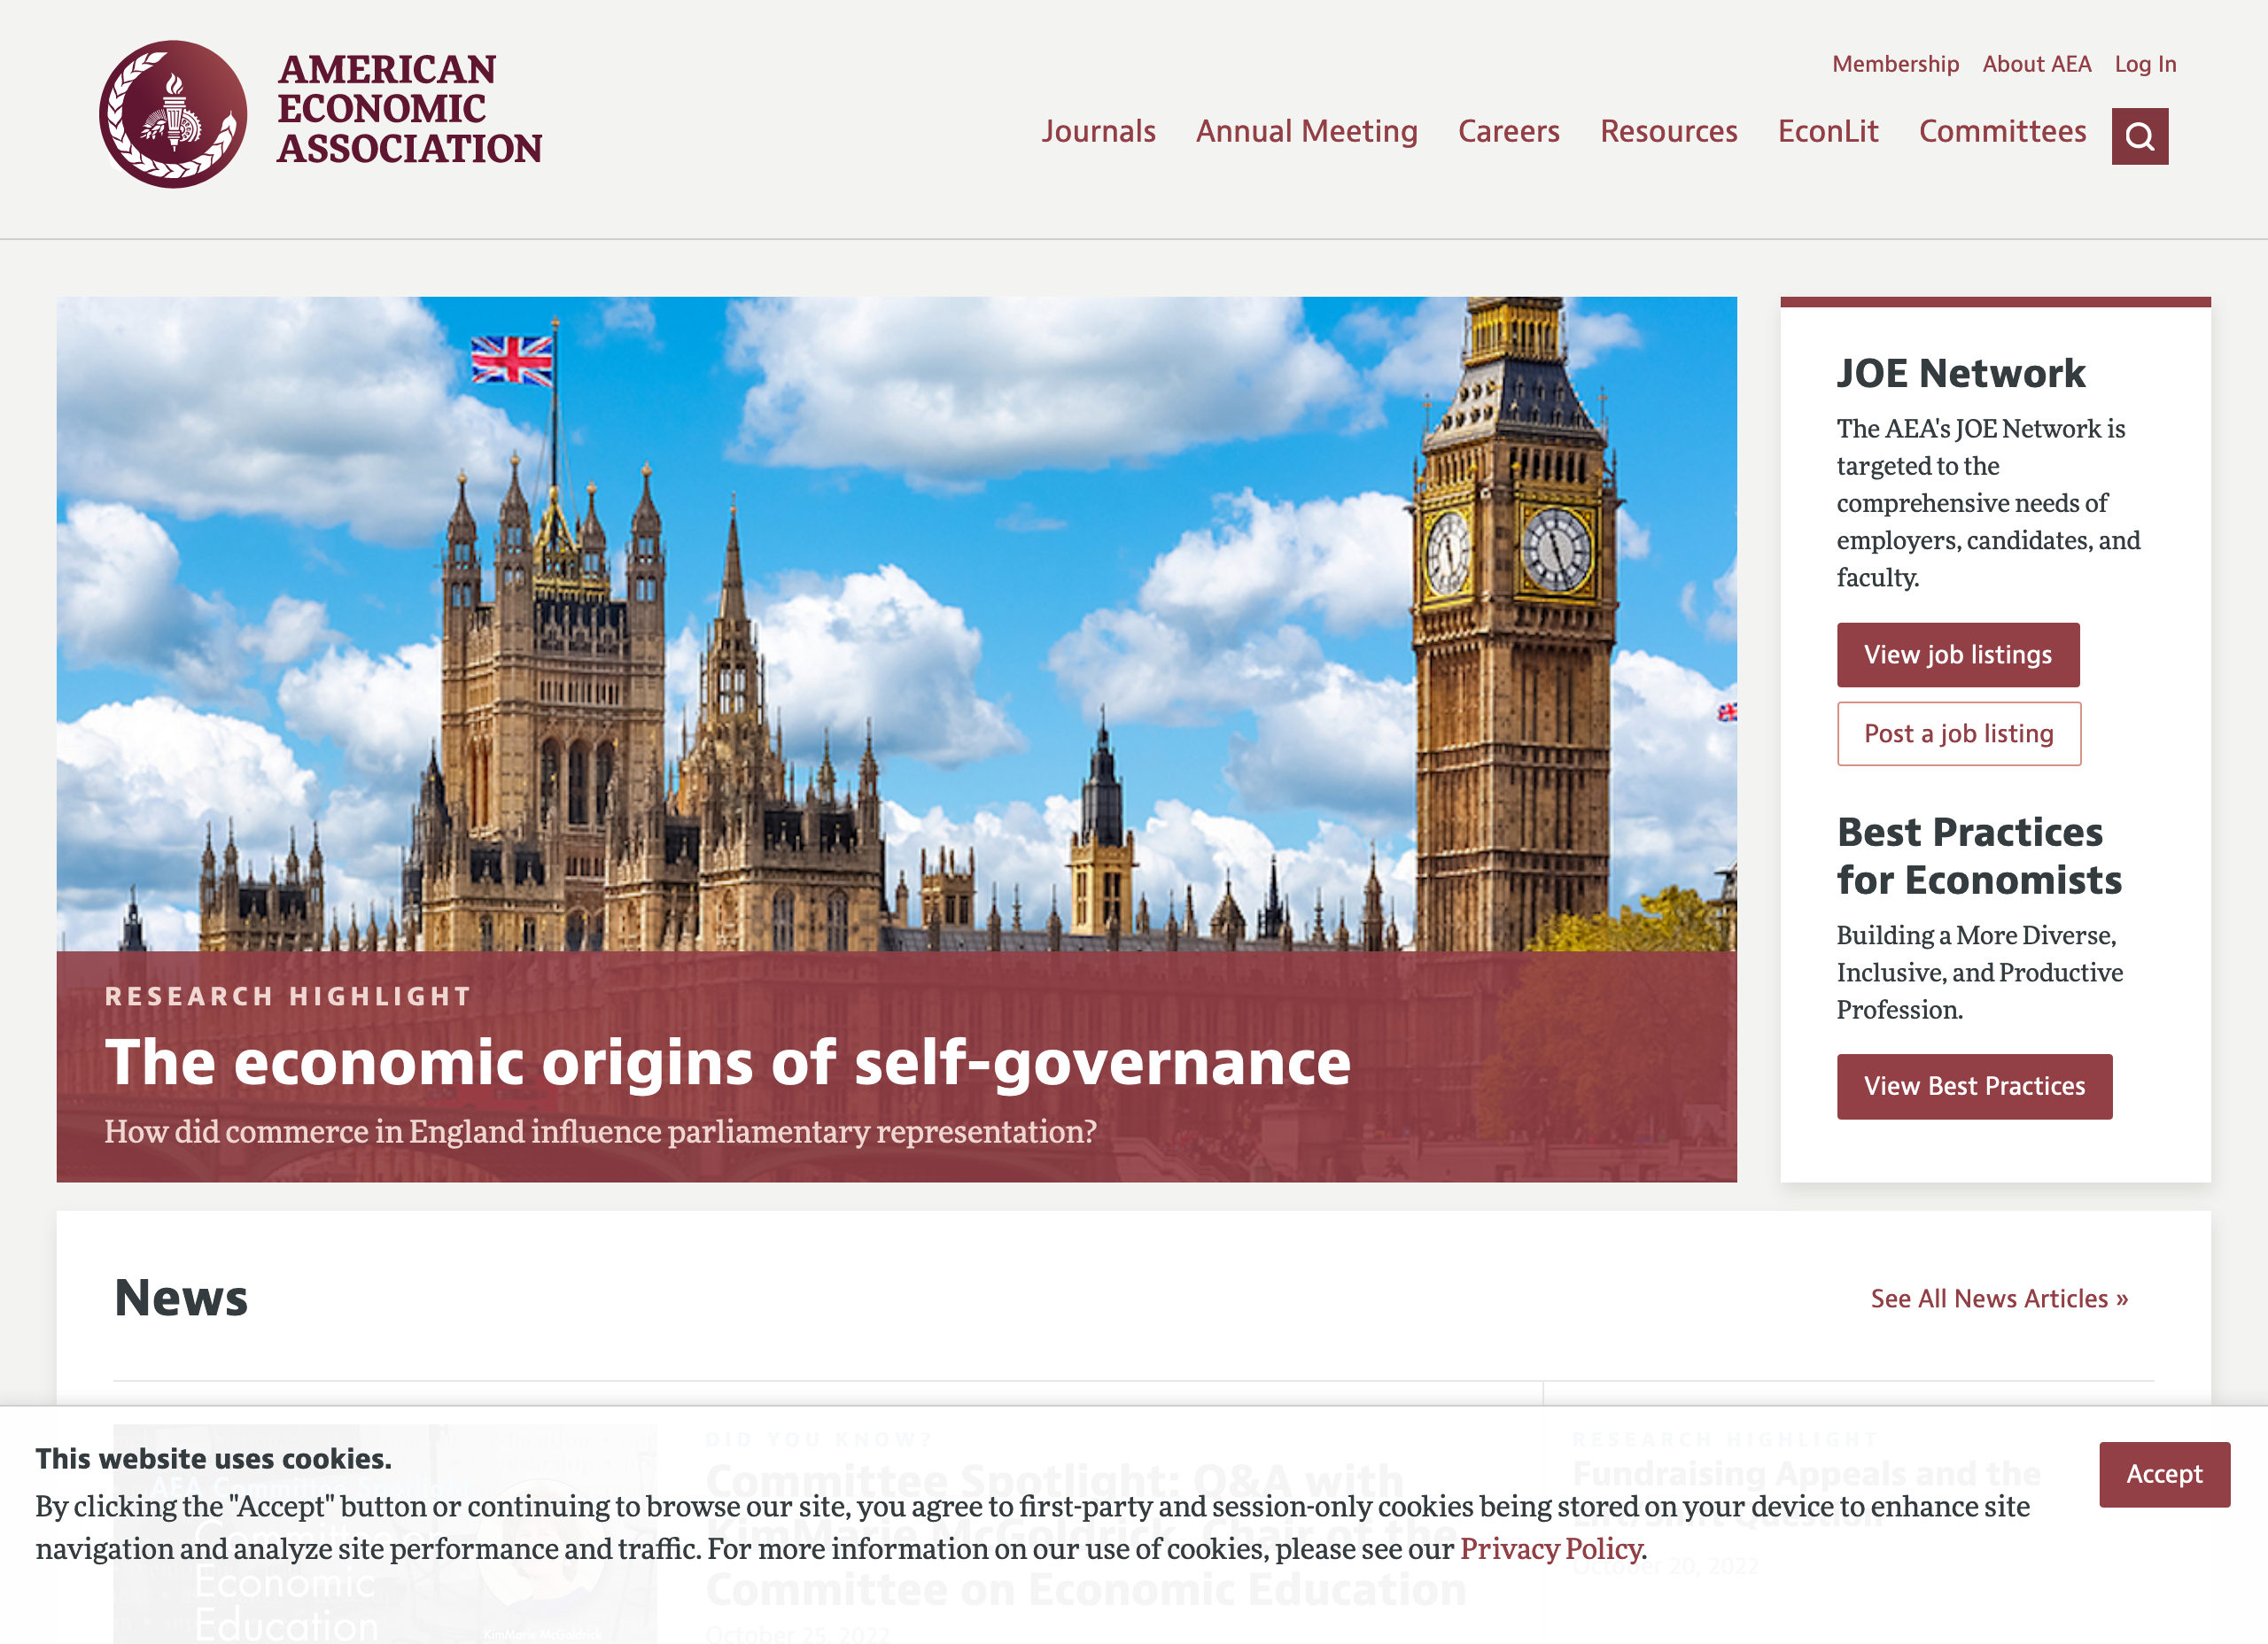Login: (2106, 40, 2185, 81)
